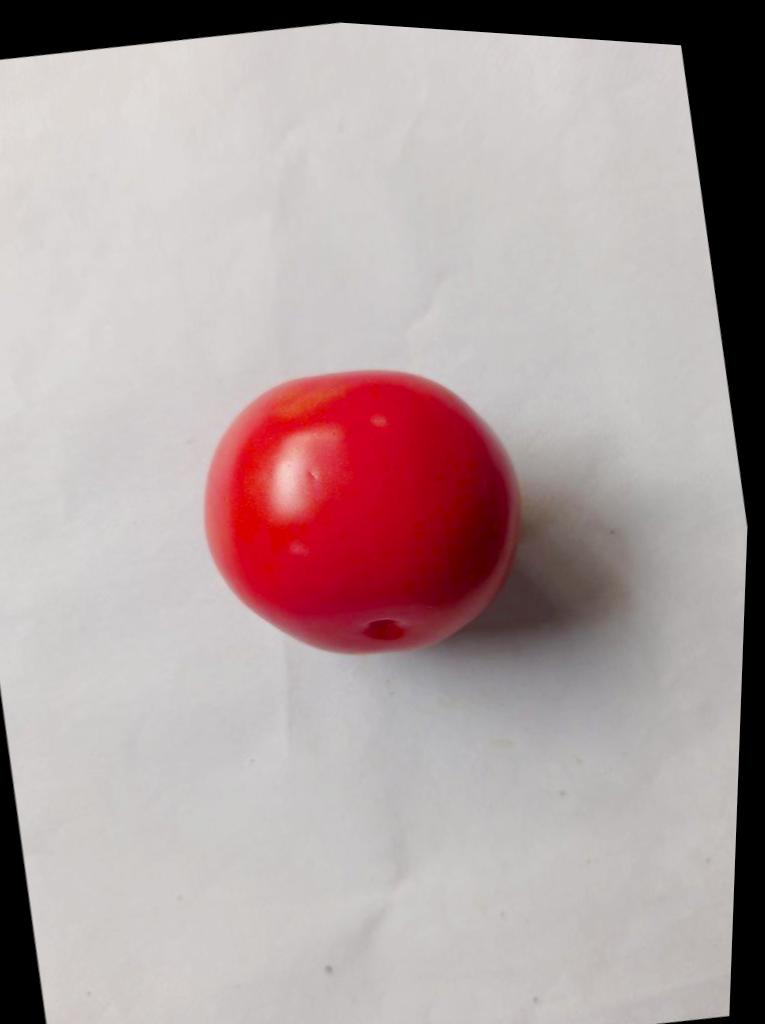tomato: (203, 370, 518, 652)
